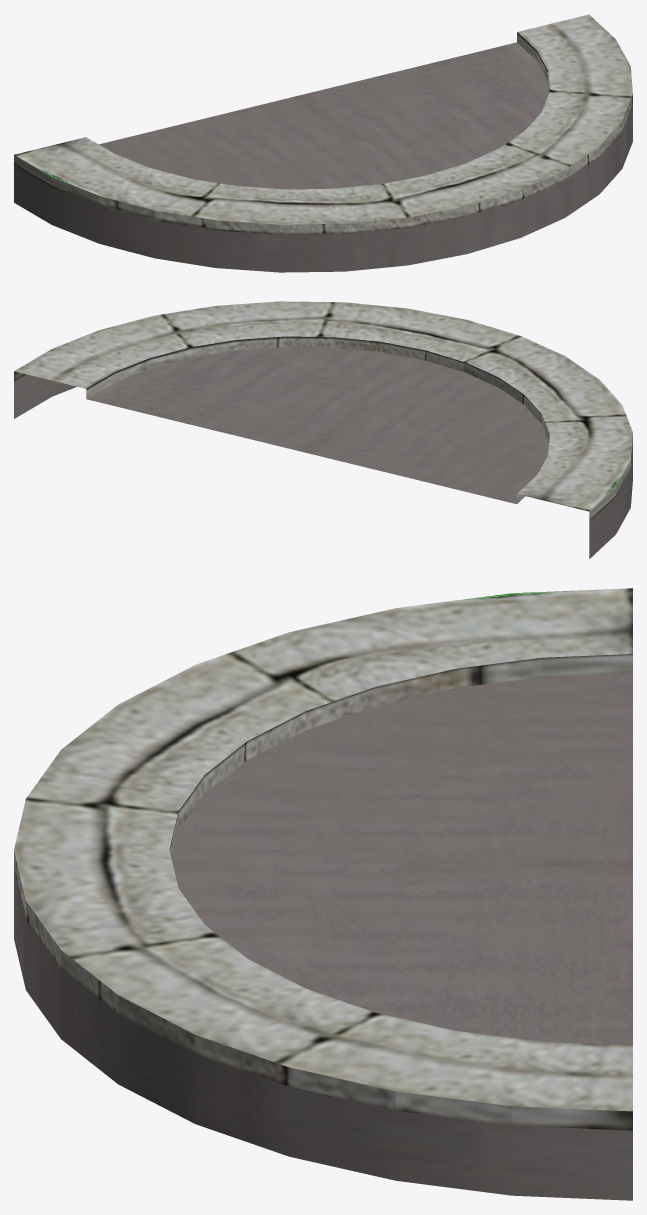
Rendered from Half circle_Road(Small).FBX.
The picture shows the model from 3 angles, top to bottom: view 1: azimuth 30°, elevation 25°; view 2: azimuth 150°, elevation 25°; view 3: azimuth 270°, elevation 25°; orthographic projection. The views are drawn at different scales.
Visible parts, largest first — view 1: Half circle_Road(Small); view 2: Half circle_Road(Small); view 3: Half circle_Road(Small).
Boxes of the visible parts, box(x1,y1,x2,y2) form: Half circle_Road(Small): box(14, 14, 632, 272); Half circle_Road(Small): box(14, 301, 632, 558); Half circle_Road(Small): box(14, 588, 632, 1200).
Size of the model in its own units: 800 by 63.69 by 400.
